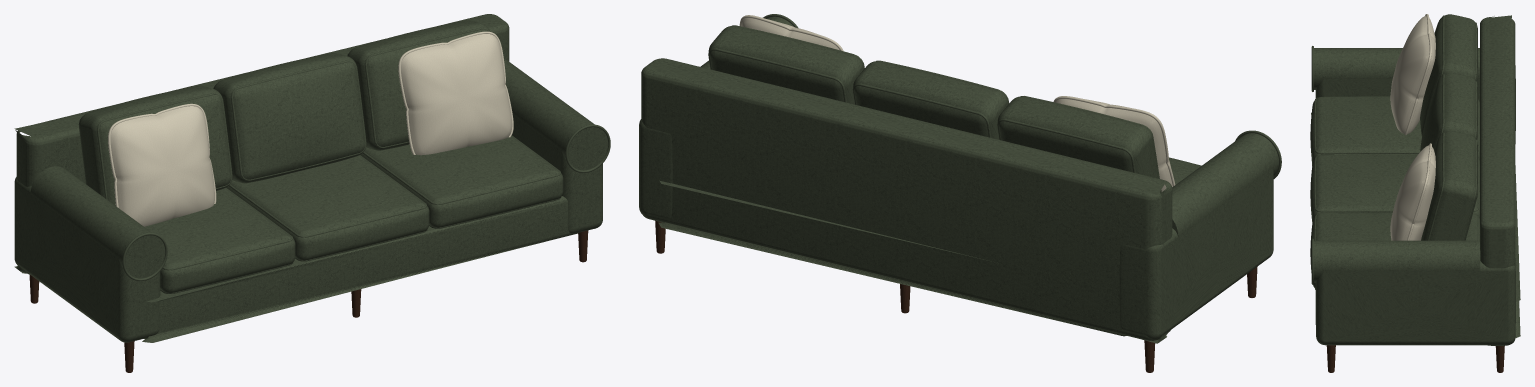
The model's file is milan-3-p2.glb.
3 views of the same model, side by side, from view 1: azimuth 30°, elevation 25°; view 2: azimuth 150°, elevation 25°; view 3: azimuth 270°, elevation 25° (orthographic). The views are drawn at different scales.
Size of the model in its own units: 2.26 by 0.8877 by 0.9451.
Materials: 5 (5 with a texture image).
